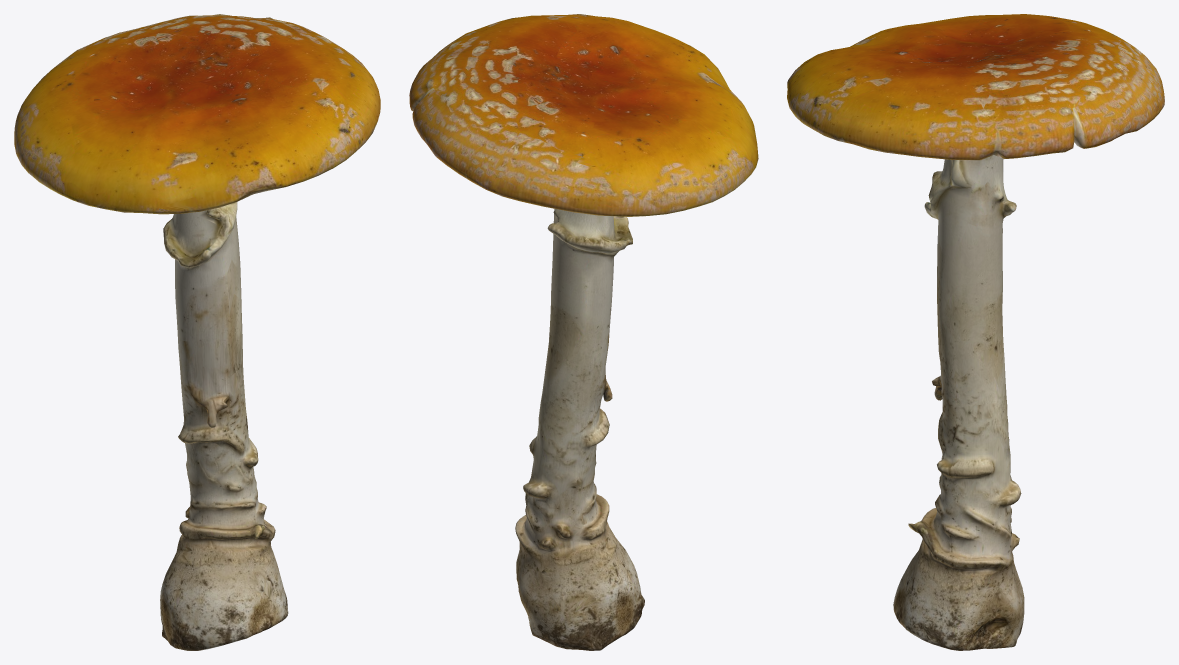
File: mushroom_orange.glb
The picture shows the model from 3 angles, left to right: view 1: azimuth 30°, elevation 25°; view 2: azimuth 150°, elevation 25°; view 3: azimuth 270°, elevation 25°; orthographic projection. The views are drawn at different scales.
Visible parts, largest first — view 1: mushroom_orange; view 2: mushroom_orange; view 3: mushroom_orange.
Part boxes in pixels (x1,y1,x2,y2): mushroom_orange: [14, 14, 380, 650]; mushroom_orange: [409, 14, 758, 650]; mushroom_orange: [787, 14, 1164, 650].
Bounding box in the file's own units: 1.69 × 3 × 1.71.
Materials: 1 (1 with a texture image).
